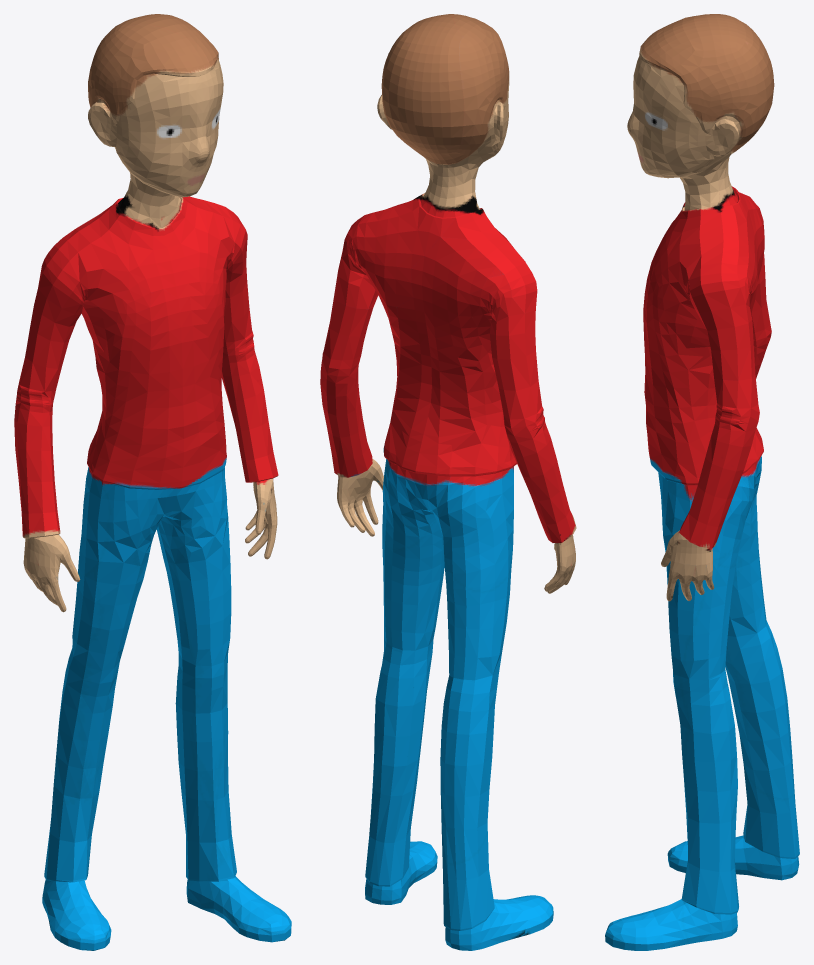
Rendered from chelik3.fbx.
The picture shows the model from 3 angles, left to right: view 1: azimuth 30°, elevation 25°; view 2: azimuth 150°, elevation 25°; view 3: azimuth 270°, elevation 25°; orthographic projection.
Visible parts, largest first — view 1: node_id4; view 2: node_id4; view 3: node_id4.
Boxes of the visible parts, bbox=[...] form: node_id4: bbox=[14, 14, 291, 950]; node_id4: bbox=[320, 14, 576, 950]; node_id4: bbox=[605, 14, 799, 950].
Bounding box in the file's own units: 0.1469 × 0.5147 × 0.1027.
1 material, 1 textured.
